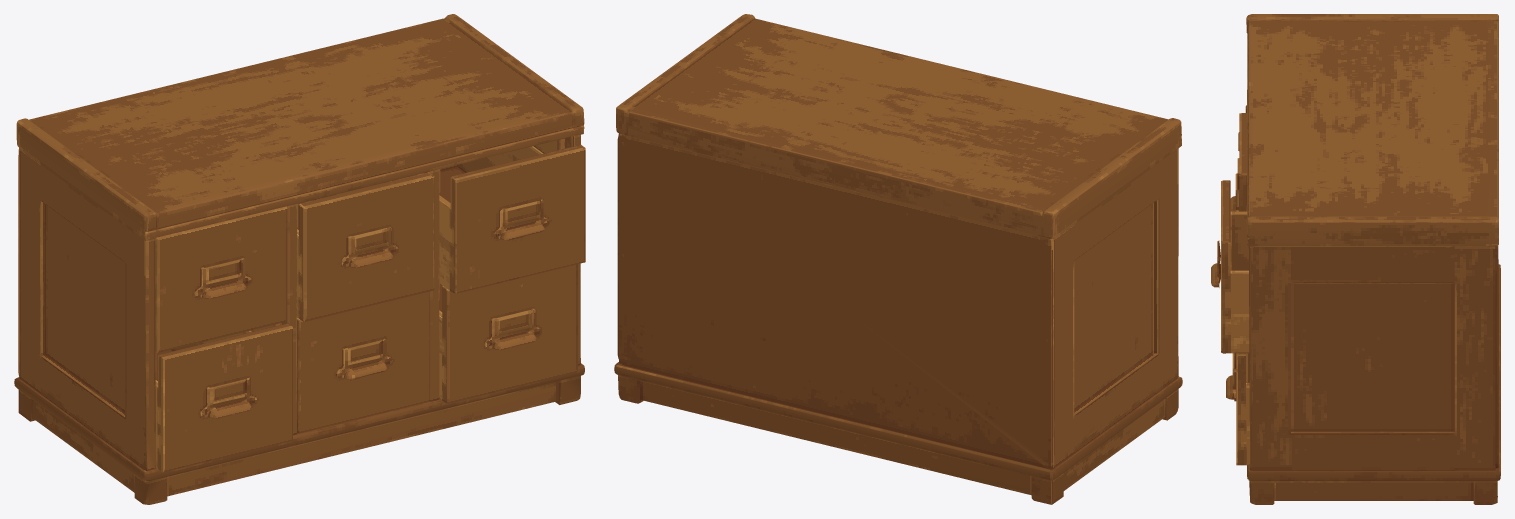
The model's file is vintage_wooden_drawer_01.glb.
The picture shows the model from 3 angles, left to right: view 1: azimuth 30°, elevation 25°; view 2: azimuth 150°, elevation 25°; view 3: azimuth 270°, elevation 25°; orthographic projection. The views are drawn at different scales.
Visible parts, largest first — view 1: mesh; view 2: mesh; view 3: mesh.
Part boxes in pixels (x1,y1,x2,y2): mesh: [14, 14, 585, 504]; mesh: [614, 14, 1182, 504]; mesh: [1211, 14, 1500, 504].
Bounding box in the file's own units: 68.6 × 43.63 × 40.22.
Materials: 1 (1 with a texture image).
